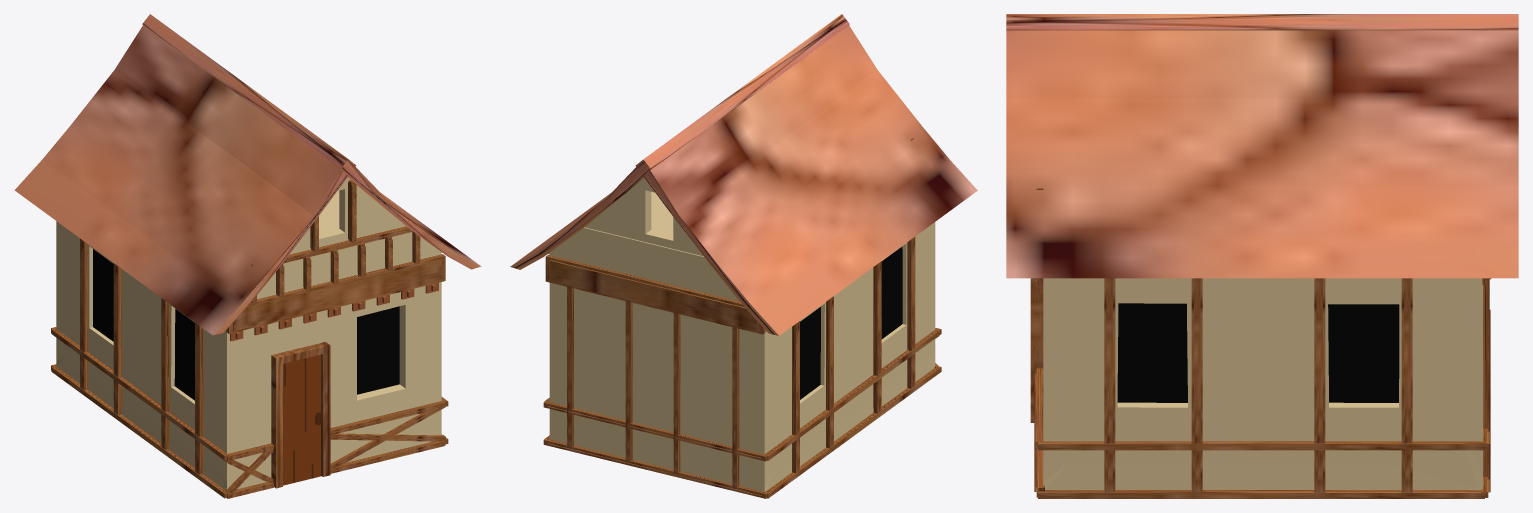
Rendered from villagerHouse 1.fbx.
The picture shows the model from 3 angles, left to right: view 1: azimuth 30°, elevation 25°; view 2: azimuth 150°, elevation 25°; view 3: azimuth 270°, elevation 25°; orthographic projection. The views are drawn at different scales.
Visible parts, largest first — view 1: Cube.034; view 2: Cube.034; view 3: Cube.034.
Part boxes in pixels (x1,y1,x2,y2): Cube.034: [14, 14, 481, 498]; Cube.034: [510, 14, 977, 498]; Cube.034: [1006, 14, 1518, 498].
Bounding box in the file's own units: 442 × 505 × 564.
